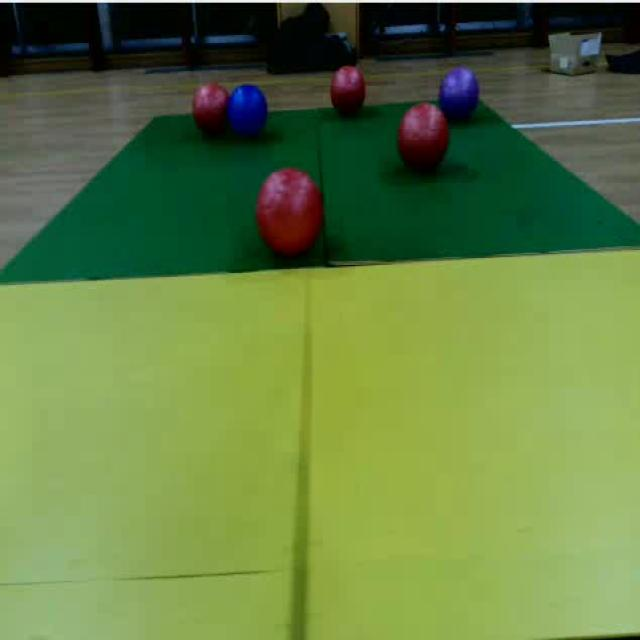blue_ball: (228, 82, 270, 142)
purple_ball: (442, 64, 482, 120)
red_ball: (250, 163, 326, 263), (394, 104, 454, 178), (189, 81, 229, 142), (331, 66, 365, 118)
